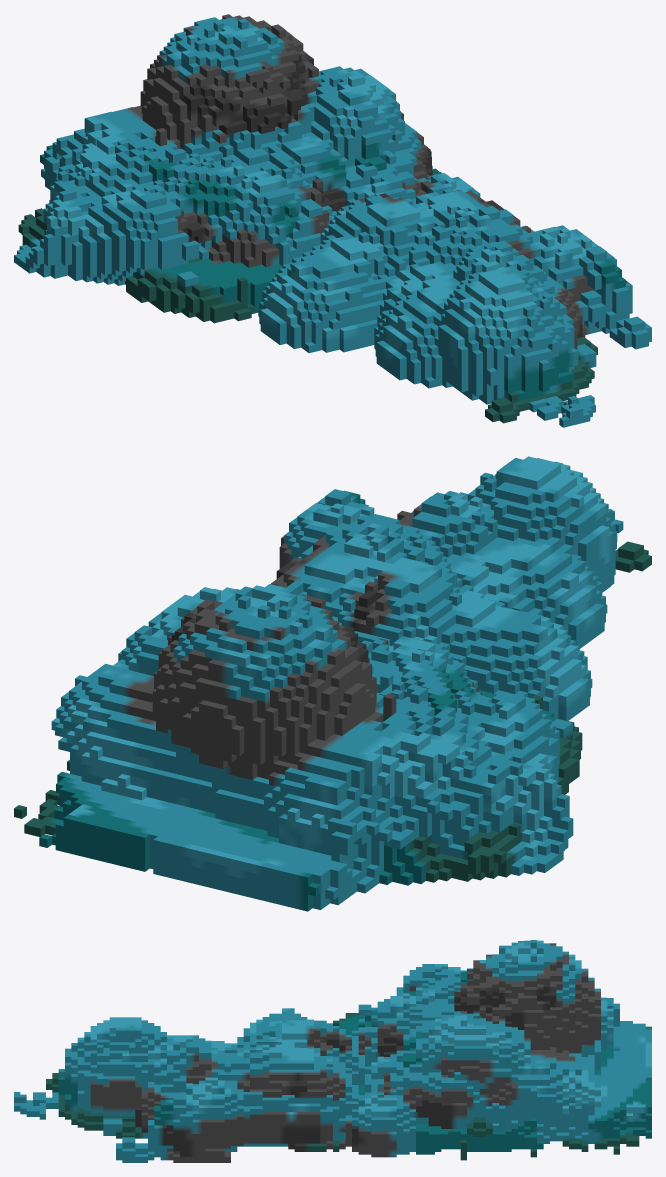
Rendered from mossrockmid.fbx.
3 renders of one model, top to bottom at view 1: azimuth 30°, elevation 25°; view 2: azimuth 150°, elevation 25°; view 3: azimuth 270°, elevation 25°, orthographic. The views are drawn at different scales.
Parts seen in each view (by area): view 1: captainonhisbikescen_part_1; view 2: captainonhisbikescen_part_1; view 3: captainonhisbikescen_part_1.
Part boxes in pixels (x1,y1,x2,y2): captainonhisbikescen_part_1: [14, 14, 651, 427]; captainonhisbikescen_part_1: [14, 456, 651, 911]; captainonhisbikescen_part_1: [14, 940, 651, 1162].
Bounding box in the file's own units: 59 × 25 × 100.
Materials: 1 (1 with a texture image).
